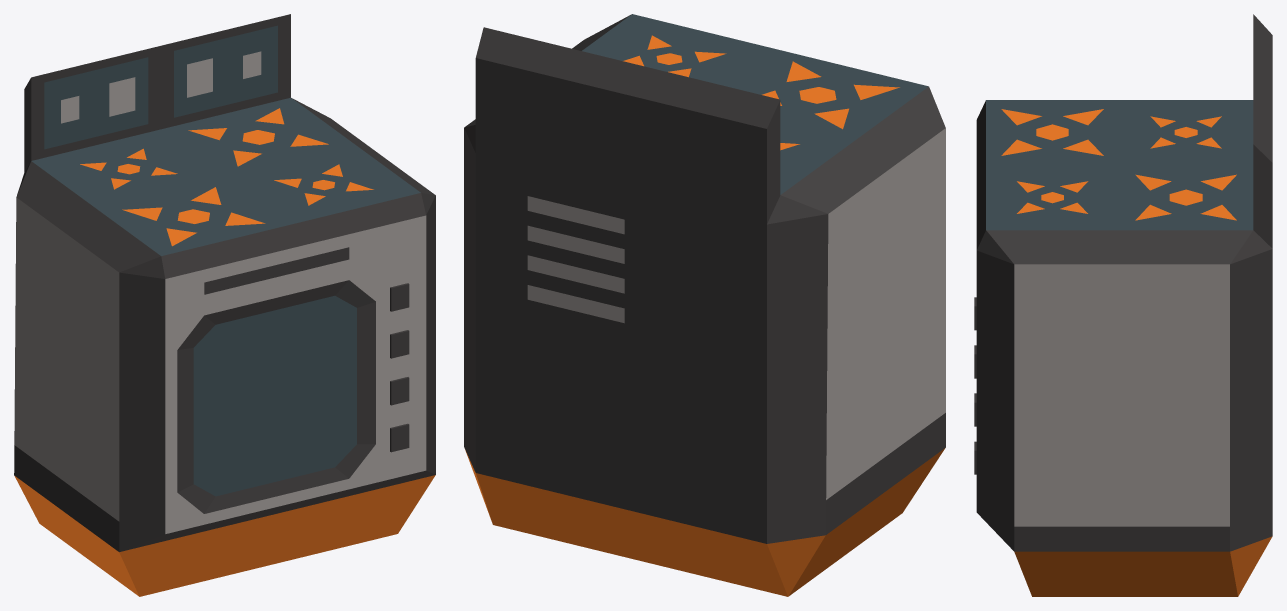
The model's file is scifi_scifi-oven.fbx.
The picture shows the model from 3 angles, left to right: view 1: azimuth 30°, elevation 25°; view 2: azimuth 150°, elevation 25°; view 3: azimuth 270°, elevation 25°; orthographic projection. The views are drawn at different scales.
Parts seen in each view (by area): view 1: scifi_scifi_oven; view 2: scifi_scifi_oven; view 3: scifi_scifi_oven.
Part boxes in pixels (<box>): scifi_scifi_oven: <box>14,14,435,596</box>; scifi_scifi_oven: <box>464,14,945,596</box>; scifi_scifi_oven: <box>974,14,1272,596</box>.
Bounding box in the file's own units: 150 × 200 × 119.
